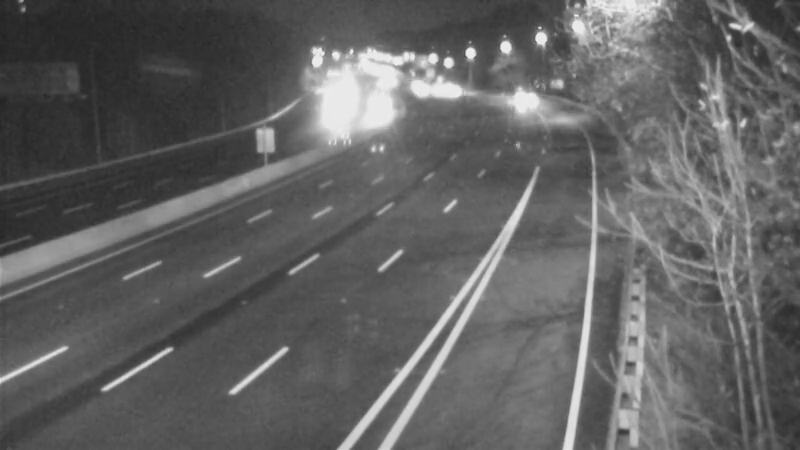vehicle: (427, 65, 477, 115), (493, 69, 543, 119), (353, 89, 403, 139)
